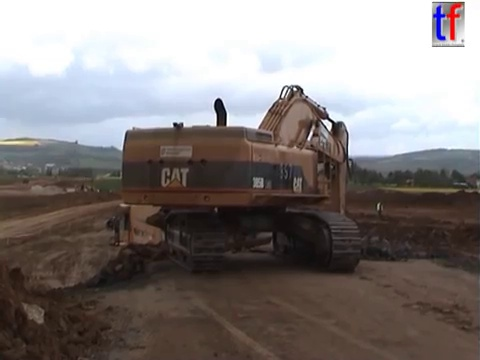excavator: (118, 81, 364, 274), (75, 180, 101, 197)
truck: (103, 200, 276, 277), (20, 175, 33, 186)
worker: (374, 198, 386, 218)
